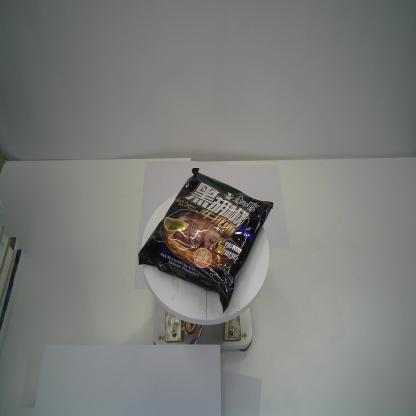Instant Noodles: (136, 166, 275, 316)
